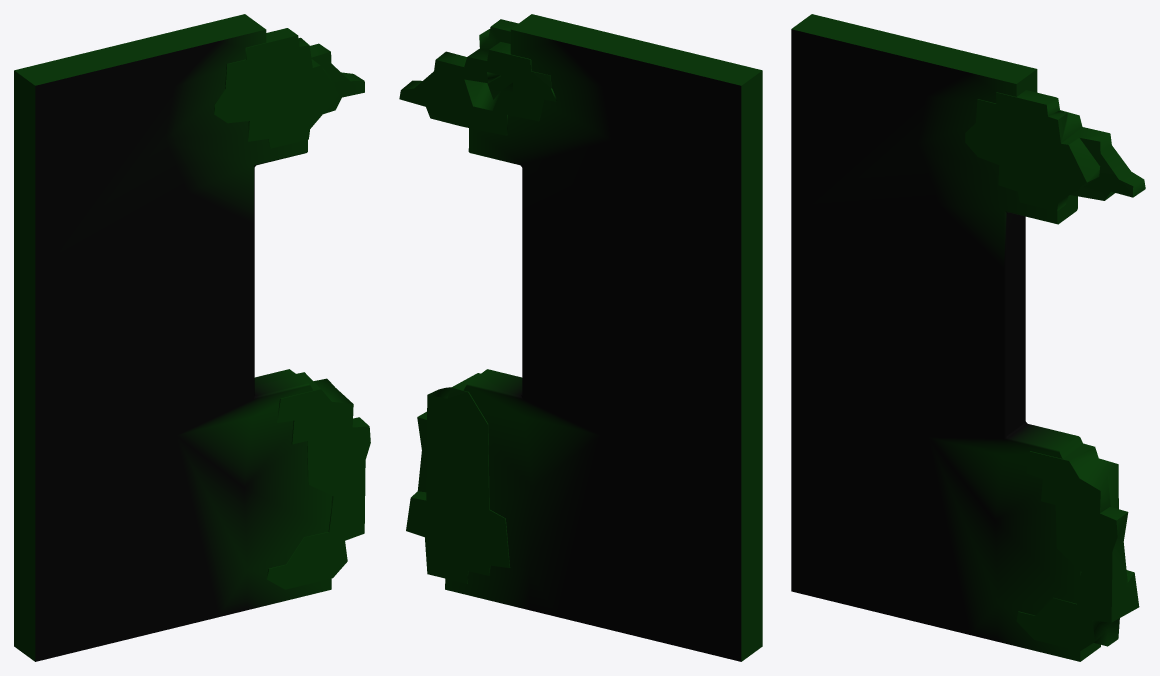
File: DBK_Brick_WinSmall_Side.fbx
The picture shows the model from 3 angles, left to right: view 1: azimuth 30°, elevation 25°; view 2: azimuth 150°, elevation 25°; view 3: azimuth 330°, elevation 25°; orthographic projection. The views are drawn at different scales.
Visible parts, largest first — view 1: DBK_Brick_WinSmall_Side; view 2: DBK_Brick_WinSmall_Side; view 3: DBK_Brick_WinSmall_Side.
Boxes of the visible parts, left/top/right/bottom form: DBK_Brick_WinSmall_Side: left=14, top=14, right=370, bottom=661; DBK_Brick_WinSmall_Side: left=399, top=14, right=762, bottom=661; DBK_Brick_WinSmall_Side: left=791, top=14, right=1145, bottom=661.
Size of the model in its own units: 186 by 300 by 21.
